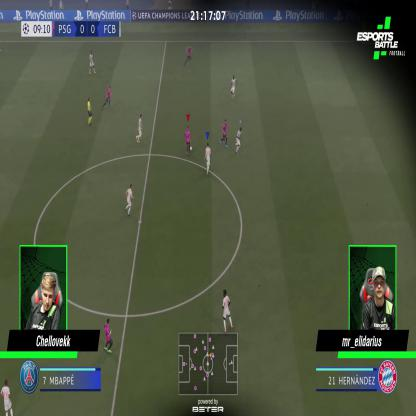ball: (189, 146, 192, 150)
